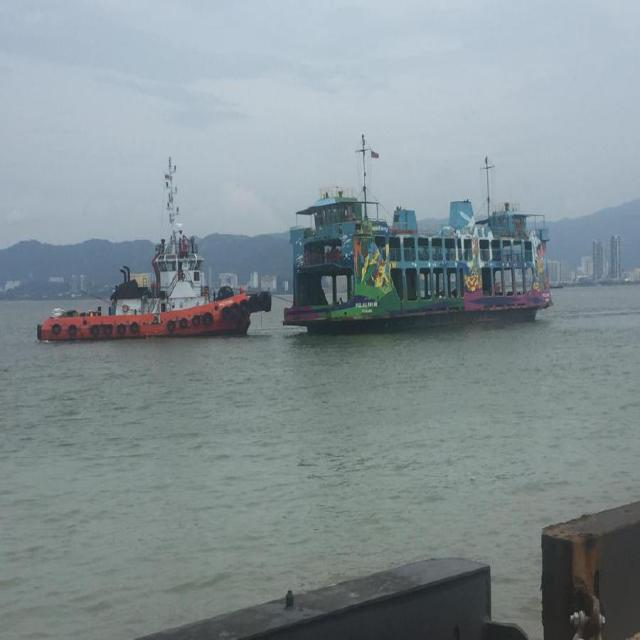fishing boat: (36, 178, 270, 360)
passenger ship: (288, 141, 570, 328)
